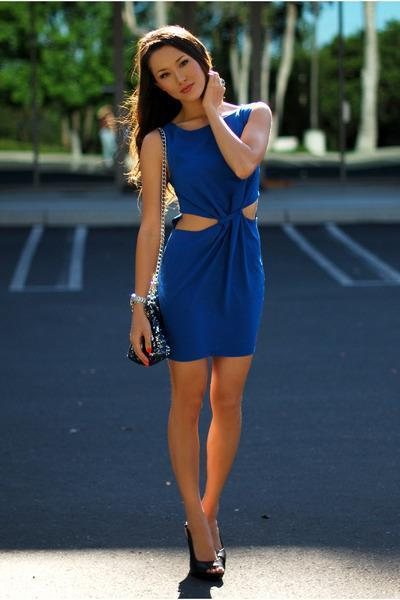bag: (132, 336, 164, 365)
dress: (144, 109, 268, 365)
shoe: (188, 545, 249, 581)
